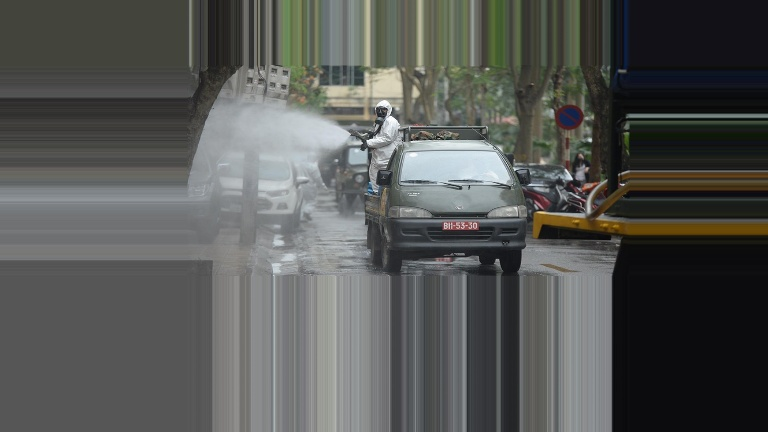plate: (440, 219, 480, 234)
